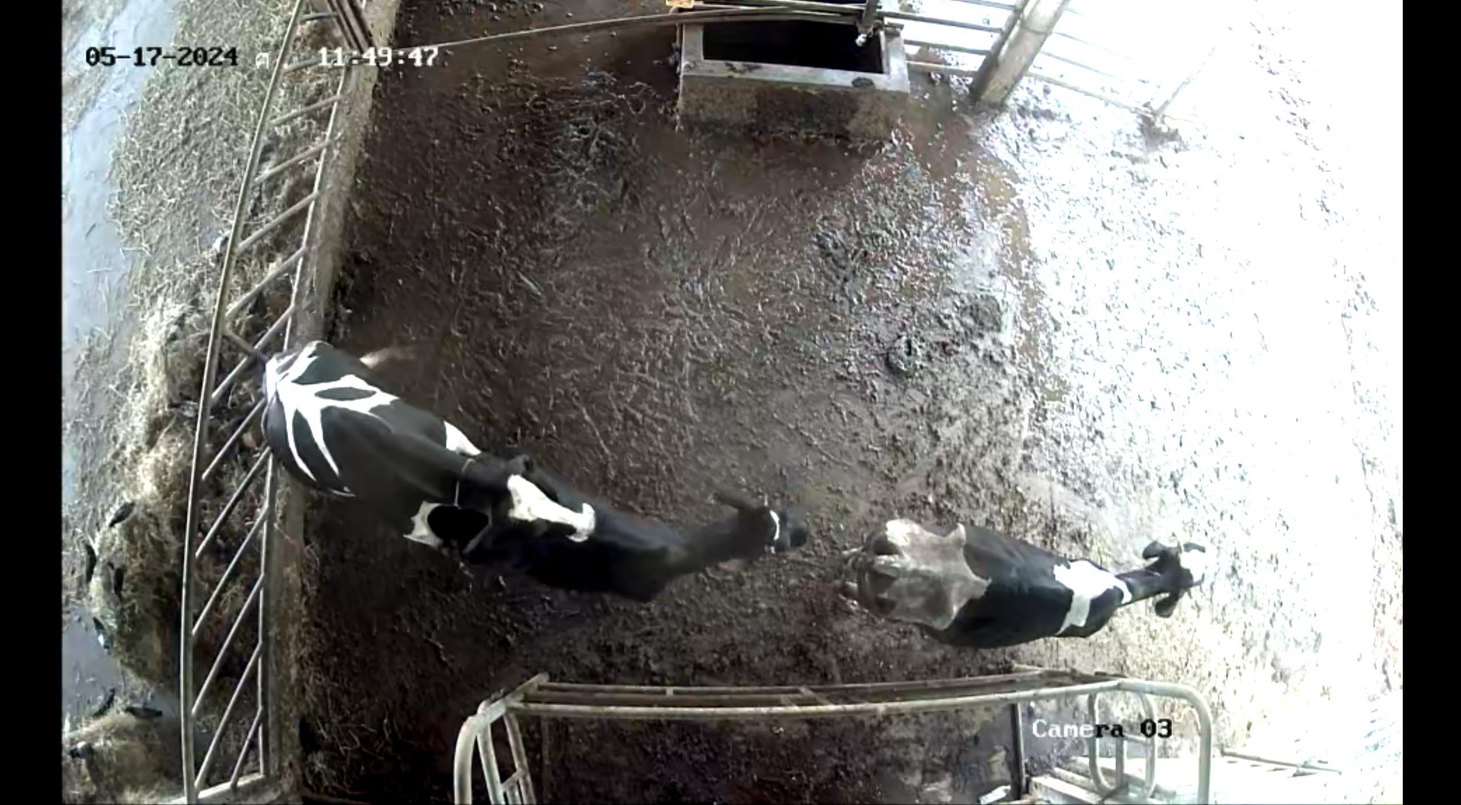ride: (245, 327, 609, 591)
stand: (835, 477, 1246, 674), (476, 434, 820, 624)
